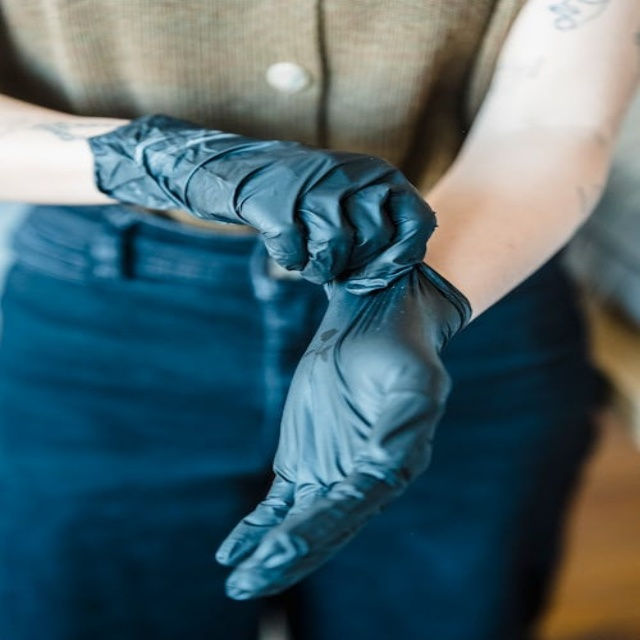Guantes: (218, 260, 469, 601), (91, 111, 443, 291)
